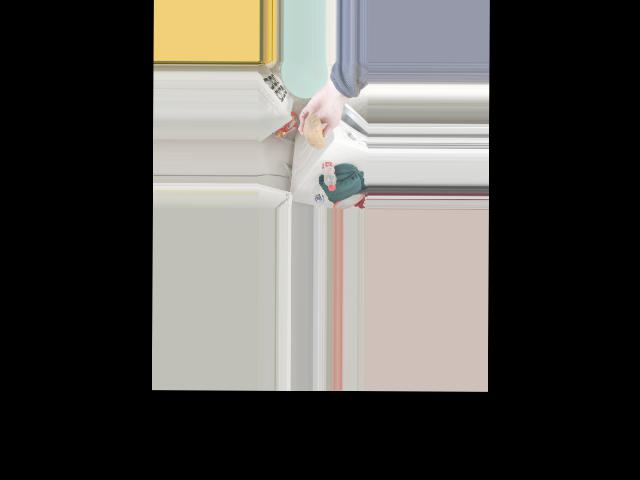sweet_potato: (304, 109, 322, 149)
